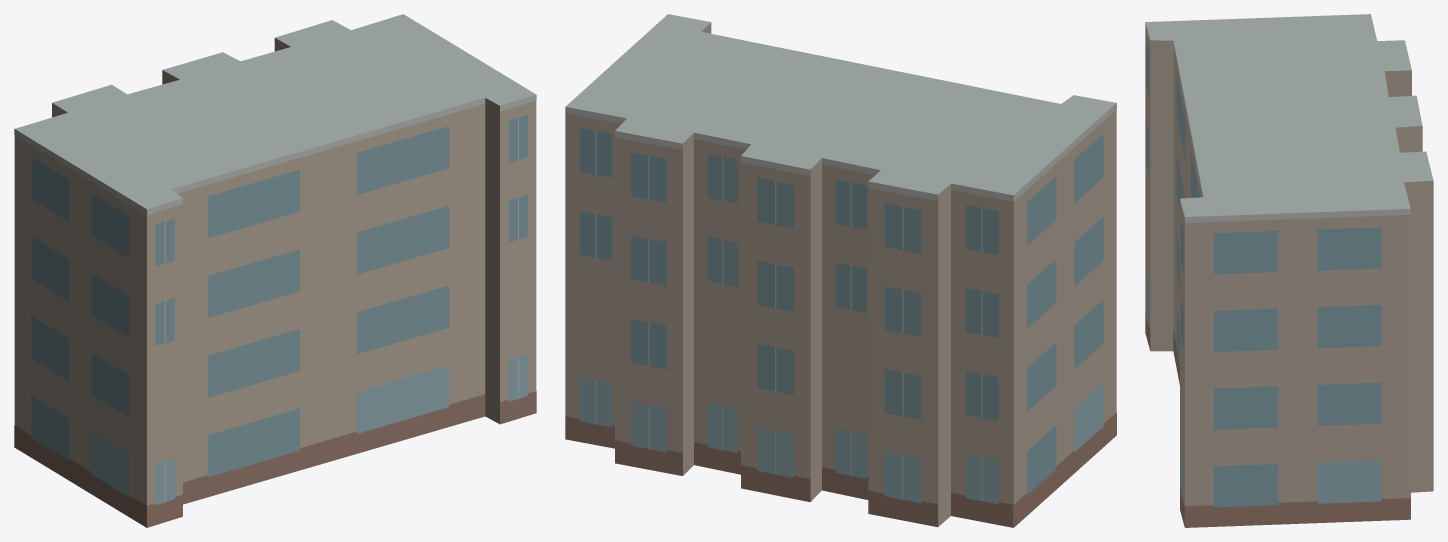
The model's file is survey-upis-32913613.glb.
3 views of the same model, side by side, from view 1: azimuth 30°, elevation 25°; view 2: azimuth 150°, elevation 25°; view 3: azimuth 270°, elevation 25° (orthographic). The views are drawn at different scales.
Parts seen in each view (by area): view 1: survey-upis-32913613.tmp; view 2: survey-upis-32913613.tmp; view 3: survey-upis-32913613.tmp.
Part boxes in pixels (<box>): survey-upis-32913613.tmp: <box>14,14,536,527</box>; survey-upis-32913613.tmp: <box>565,14,1116,527</box>; survey-upis-32913613.tmp: <box>1145,14,1433,527</box>.
Bounding box in the file's own units: 17.95 × 12.8 × 10.77.
